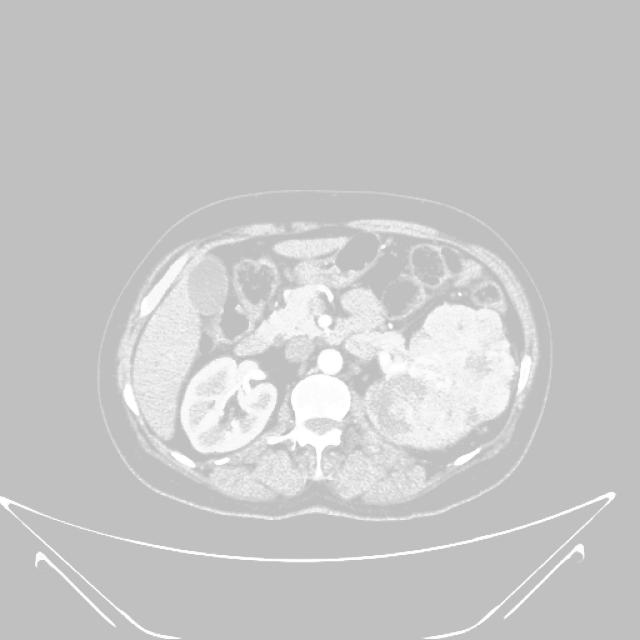TUMOR: (157, 286, 461, 448)
